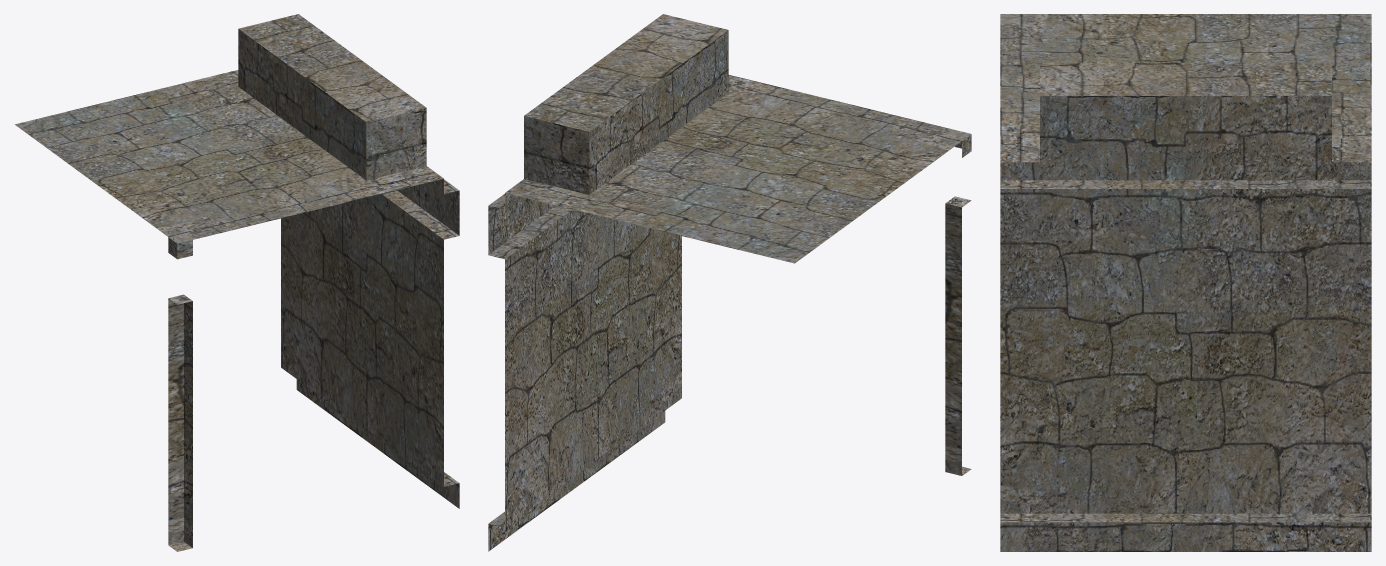
Rendered from Section12.FBX.
The picture shows the model from 3 angles, left to right: view 1: azimuth 30°, elevation 25°; view 2: azimuth 150°, elevation 25°; view 3: azimuth 270°, elevation 25°; orthographic projection. The views are drawn at different scales.
Visible parts, largest first — view 1: ClaimedCo101E-SW001; view 2: ClaimedCo101E-SW001; view 3: ClaimedCo101E-SW001.
Part boxes in pixels (<box>): ClaimedCo101E-SW001: <box>15,14,459,551</box>; ClaimedCo101E-SW001: <box>488,14,971,551</box>; ClaimedCo101E-SW001: <box>1000,14,1371,551</box>.
Bounding box in the file's own units: 100 × 133 × 100.
